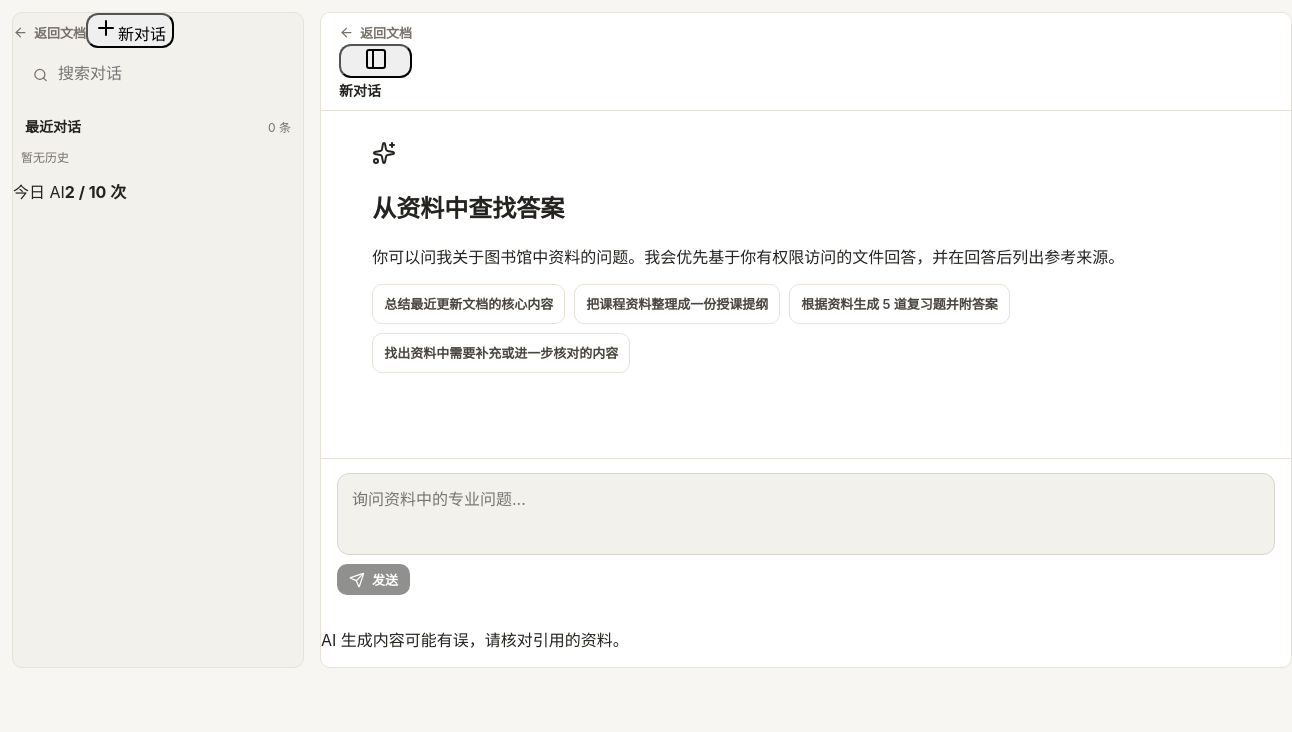
Test: AiAssistantClient keyboard input › shows an unavailable historical source as non-clickable
In the text box with placeholder "询问资料中的专业问题...": (806, 514) [337,473,1275,555], type "旧资料在哪里？"
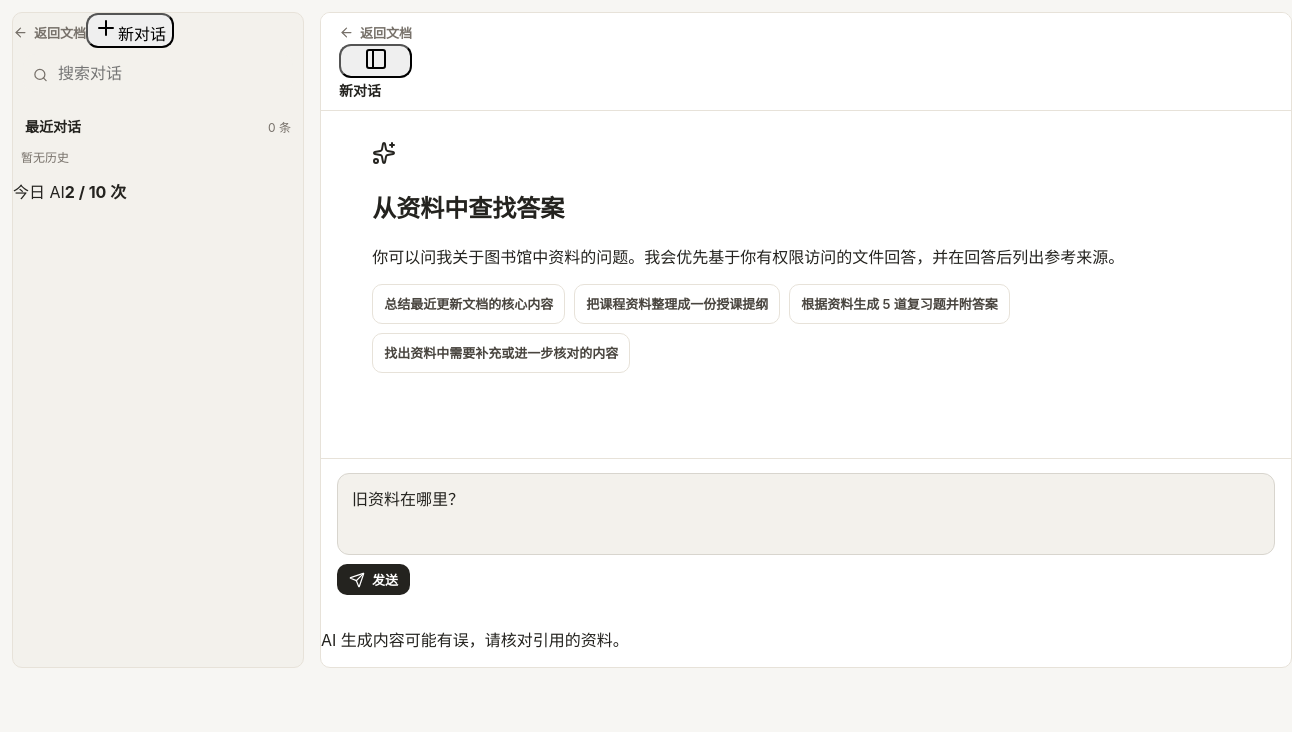
Press Enter in the text box with placeholder "询问资料中的专业问题...", box [337,473,1275,555]
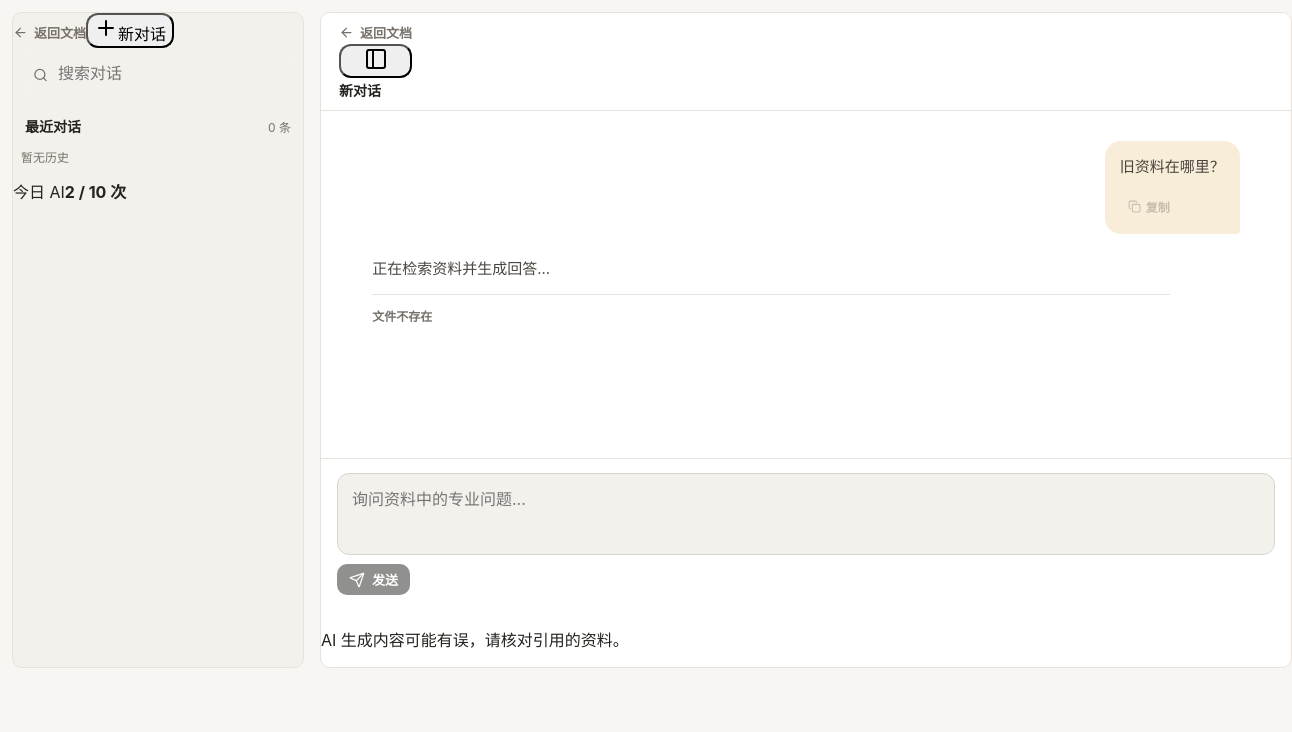
Now the text "文件不存在" is shown, box [372,308,432,324]
